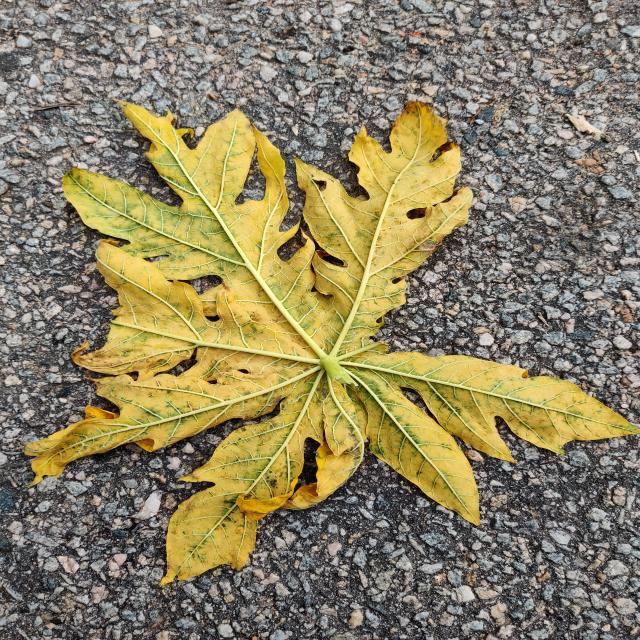fasiation: (27, 101, 638, 584)
